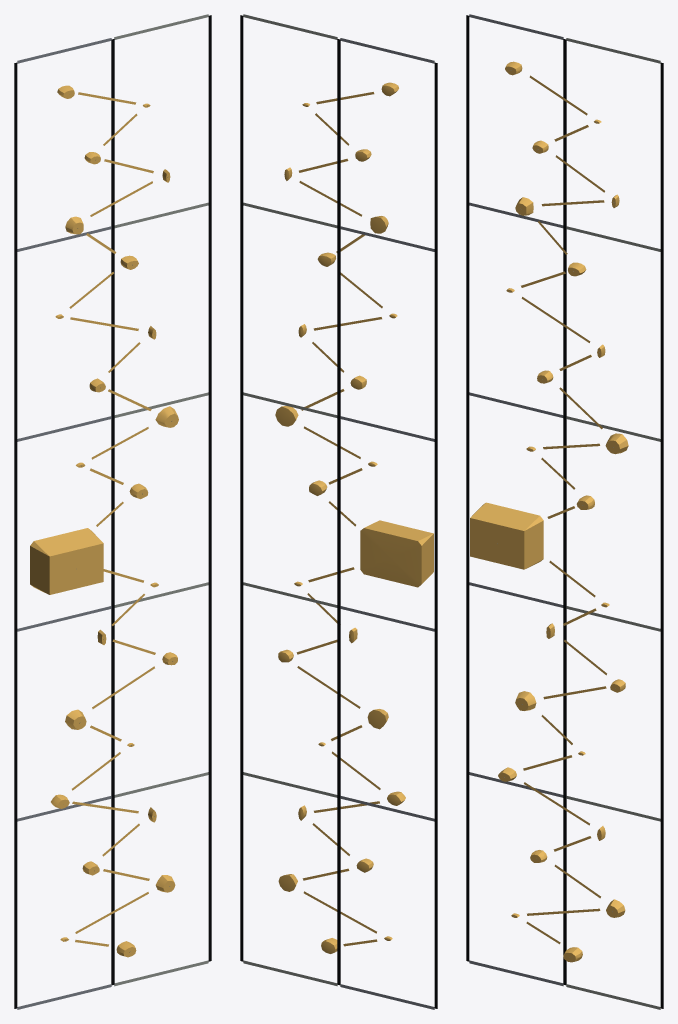
The model's file is tt_climb_lead_routes_c.glb.
3 views of the same model, side by side, from view 1: azimuth 30°, elevation 25°; view 2: azimuth 150°, elevation 25°; view 3: azimuth 330°, elevation 25° (orthographic).
Visible parts, largest first — view 1: Grid_Mullion, Holds_PU, Route_Tape, Grid_Course_L, Grid_Course_R; view 2: Grid_Mullion, Holds_PU, Route_Tape, Grid_Course_L, Grid_Course_R; view 3: Grid_Mullion, Holds_PU, Route_Tape, Grid_Course_R, Grid_Course_L.
Part boxes in pixels (x1,y1,x2,y2): Grid_Mullion: (14, 15, 211, 1008); Holds_PU: (30, 85, 178, 957); Route_Tape: (69, 92, 155, 946); Grid_Course_L: (17, 38, 111, 1009); Grid_Course_R: (114, 14, 208, 986); Grid_Mullion: (240, 15, 437, 1008); Holds_PU: (275, 82, 433, 953); Route_Tape: (296, 92, 382, 946); Grid_Course_L: (340, 38, 434, 1009); Grid_Course_R: (243, 14, 337, 986); Grid_Mullion: (466, 15, 663, 1008); Holds_PU: (470, 61, 628, 962); Route_Tape: (521, 75, 606, 944); Grid_Course_R: (566, 38, 660, 1009); Grid_Course_L: (469, 14, 563, 986).
Size of what is drawn, in the model's own units: 2.5 by 11.5 by 0.364.
Materials: 5 (2 with a texture image).
